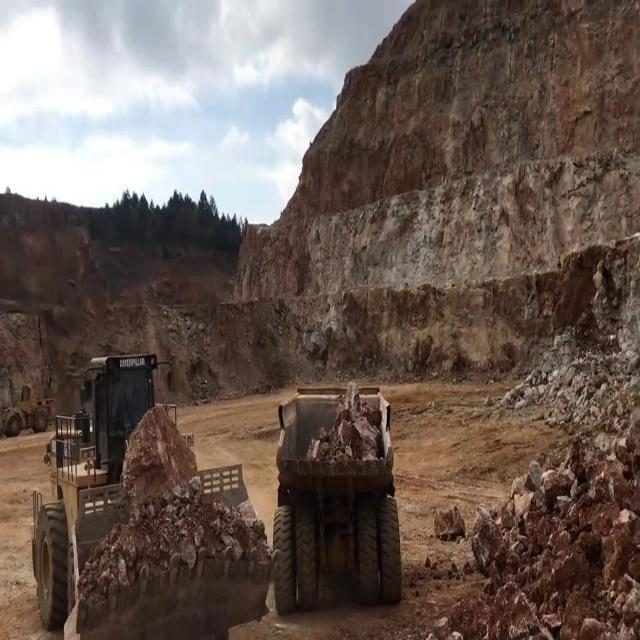Dump Truck: (273, 383, 401, 618)
Loader: (32, 351, 280, 639), (1, 383, 55, 438)
